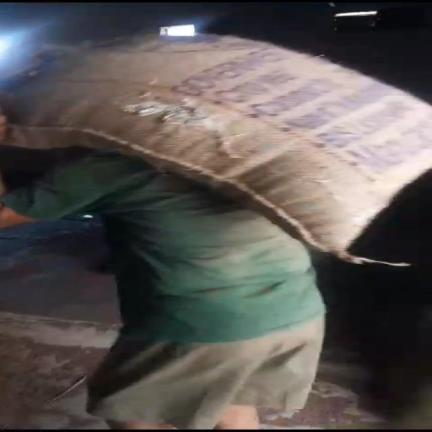Zone-Counting: (0, 44, 431, 429)
